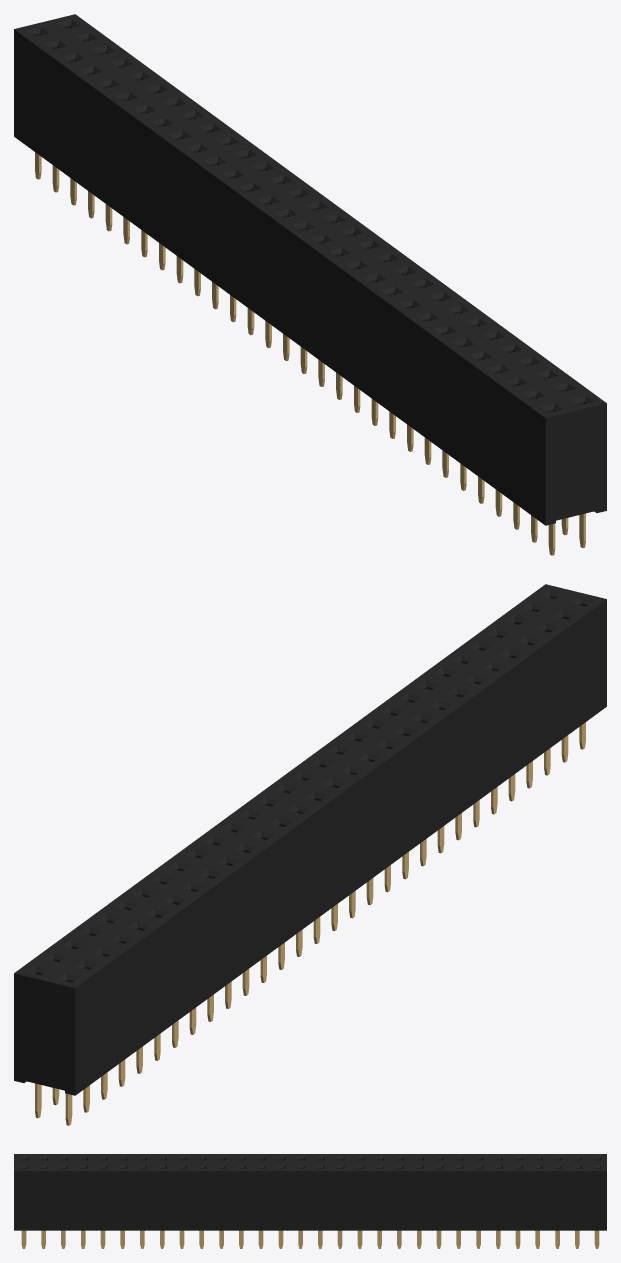
The model's file is kc-pinsocket_2x30_p2.54mm_vertical.glb.
The picture shows the model from 3 angles, top to bottom: view 1: azimuth 30°, elevation 25°; view 2: azimuth 150°, elevation 25°; view 3: azimuth 270°, elevation 25°; orthographic projection. The views are drawn at different scales.
Parts seen in each view (by area): view 1: 0_0_0_0, 0.75_0.5_0.25_0.9; view 2: 0_0_0_0, 0.75_0.5_0.25_0.9; view 3: 0_0_0_0, 0.75_0.5_0.25_0.9.
Part boxes in pixels (x1,y1,x2,y2): 0_0_0_0: (14,14,606,525); 0.75_0.5_0.25_0.9: (35,152,585,555); 0_0_0_0: (14,584,606,1095); 0.75_0.5_0.25_0.9: (35,722,585,1125); 0_0_0_0: (14,1154,606,1230); 0.75_0.5_0.25_0.9: (21,1230,599,1248).
Size of the model in its own units: 0.5079 by 1.16 by 7.62.
